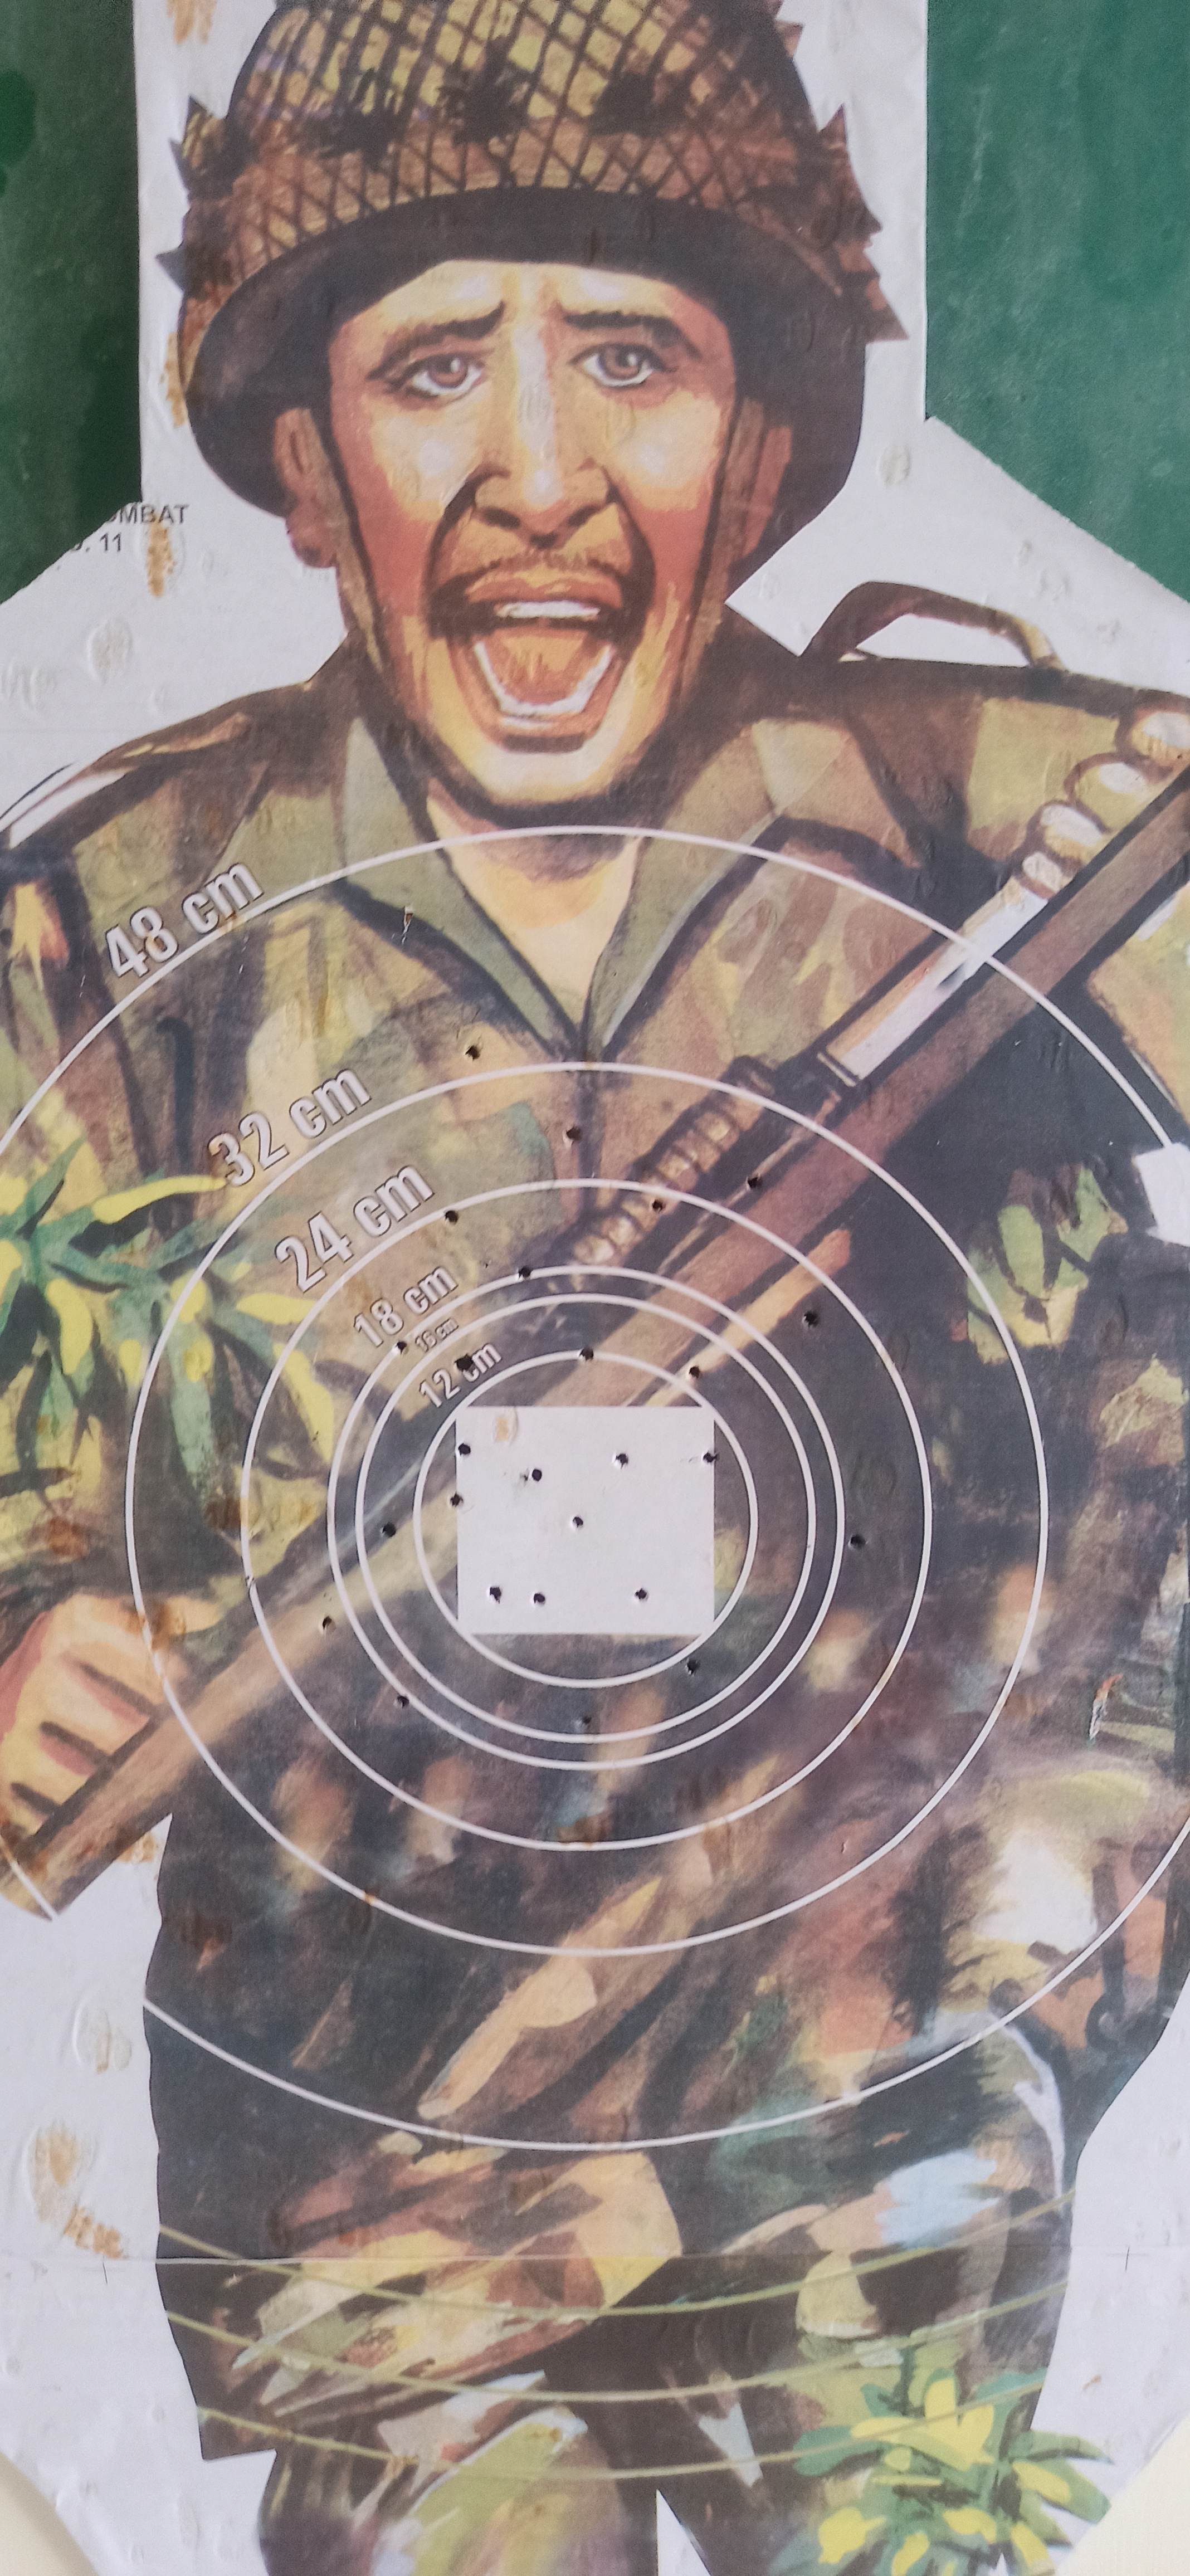bullet hit: (450, 1352, 487, 1382), (738, 1166, 771, 1198), (510, 1258, 544, 1286), (386, 1687, 417, 1715), (682, 1355, 710, 1385), (572, 1707, 603, 1733), (797, 1306, 825, 1332), (845, 1525, 869, 1554), (575, 1344, 605, 1367), (457, 1043, 488, 1065), (682, 1653, 707, 1679), (562, 1124, 592, 1145), (611, 1444, 634, 1470), (565, 1510, 592, 1533), (452, 1437, 475, 1462), (390, 1334, 413, 1359), (631, 1582, 654, 1607), (648, 1194, 671, 1217), (444, 1492, 468, 1513), (526, 1460, 547, 1485), (380, 1516, 401, 1541), (314, 1613, 339, 1635), (485, 1579, 505, 1605), (437, 1206, 464, 1226), (700, 1447, 722, 1470), (528, 1589, 547, 1610)
white box: (449, 1400, 726, 1635)
